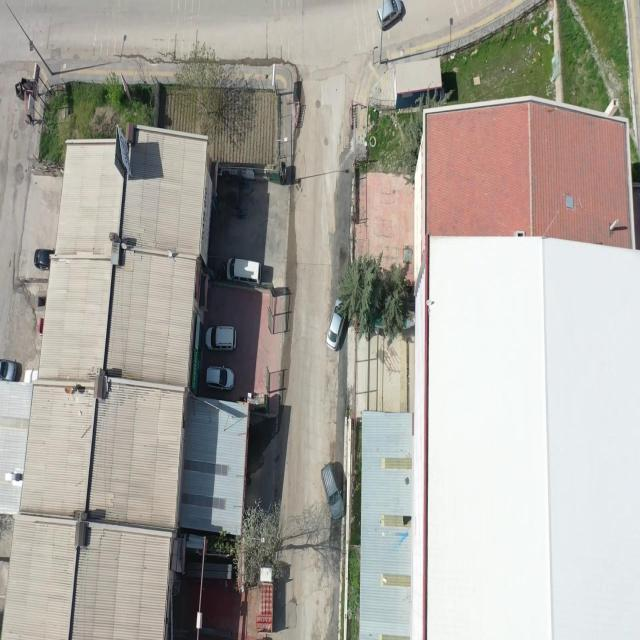p3rson: (27, 114, 35, 126)
